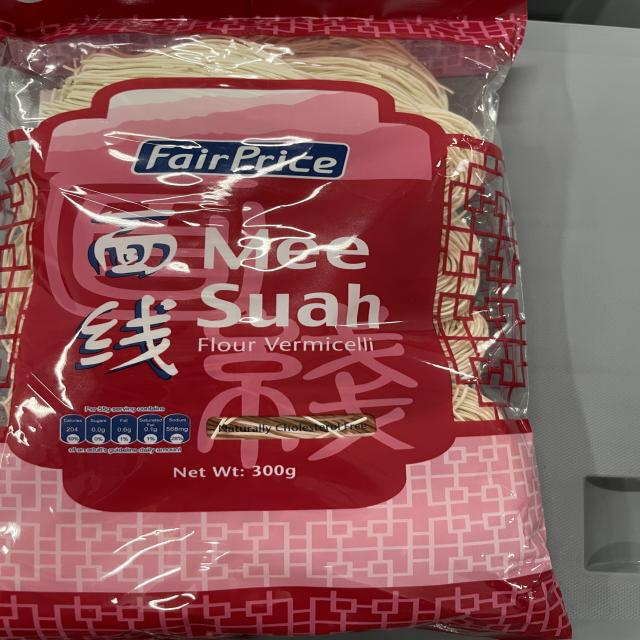object_name: (5, 2, 542, 640)
